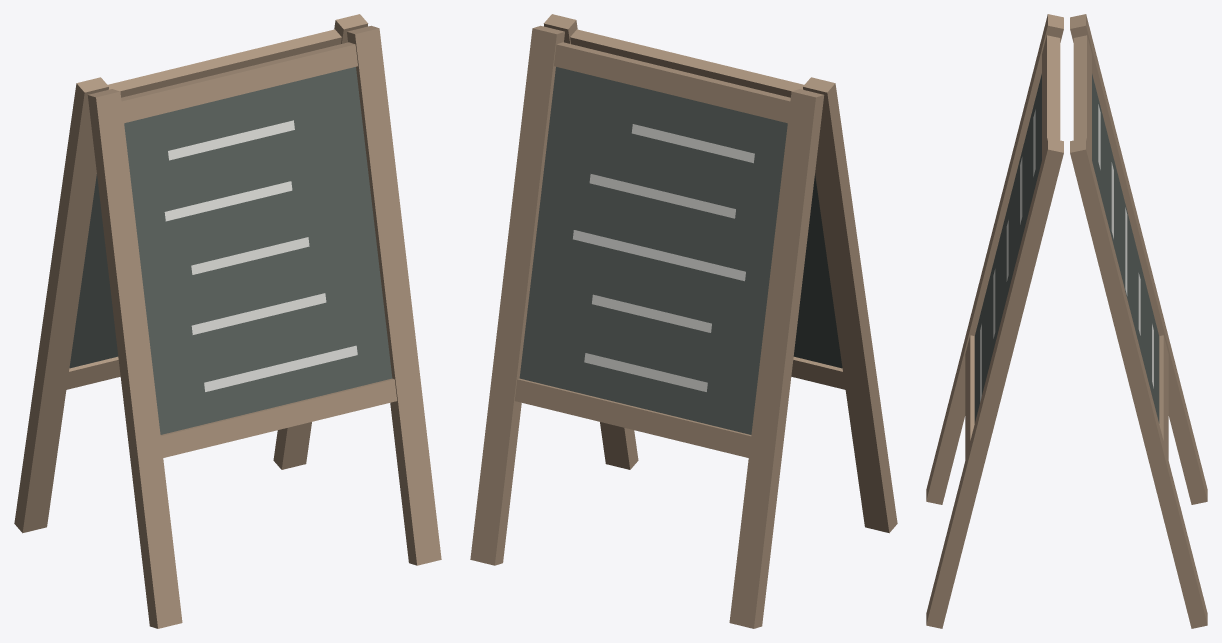
Rendered from SM_BM_BP_Chalkboard.glb.
The picture shows the model from 3 angles, left to right: view 1: azimuth 30°, elevation 25°; view 2: azimuth 150°, elevation 25°; view 3: azimuth 270°, elevation 25°; orthographic projection. The views are drawn at different scales.
Visible parts, largest first — view 1: SM_BM_BP_Chalkboard; view 2: SM_BM_BP_Chalkboard; view 3: SM_BM_BP_Chalkboard.
Part boxes in pixels (x1,y1,x2,y2): SM_BM_BP_Chalkboard: (14,14,441,628); SM_BM_BP_Chalkboard: (470,14,897,628); SM_BM_BP_Chalkboard: (926,14,1207,628).
Size of the model in its own units: 0.58 by 0.9568 by 0.5092.
